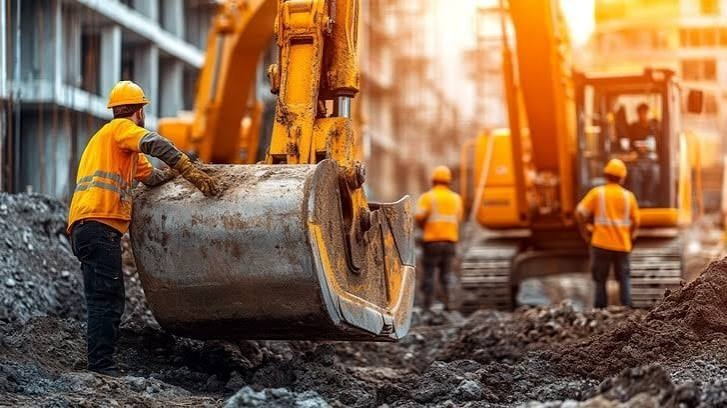excavator: (137, 4, 448, 360), (464, 2, 709, 308)
hardhat: (98, 78, 143, 111), (593, 158, 629, 178), (428, 167, 456, 182)
person: (60, 75, 198, 375), (404, 165, 475, 313), (579, 158, 644, 308), (625, 93, 659, 152)
safety_vest: (65, 117, 135, 235), (582, 178, 638, 254), (416, 187, 462, 249)
